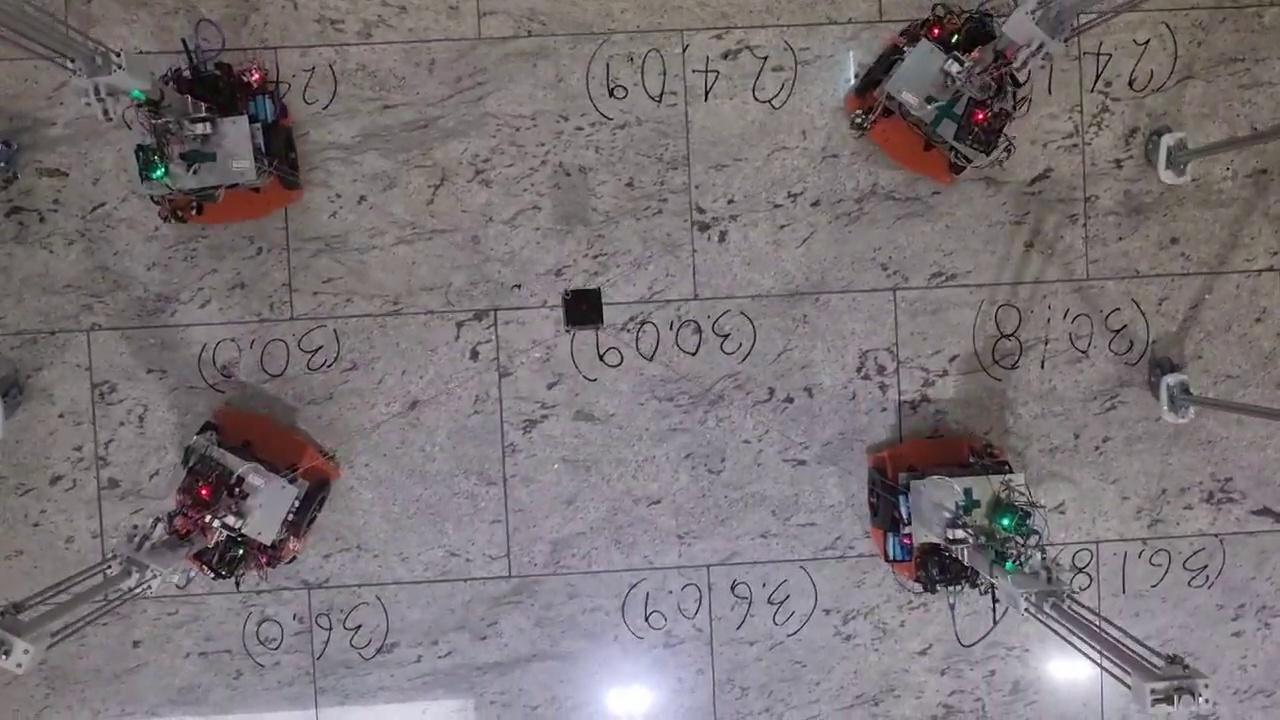e0: (562, 288, 604, 326)
r1: (866, 462, 1016, 527)
r2: (856, 43, 992, 174)
r3: (146, 123, 302, 203)
r4: (181, 420, 332, 538)
y_+_axis_vector: (695, 280, 1088, 299)
y_-_axis_vector: (292, 300, 696, 318)
